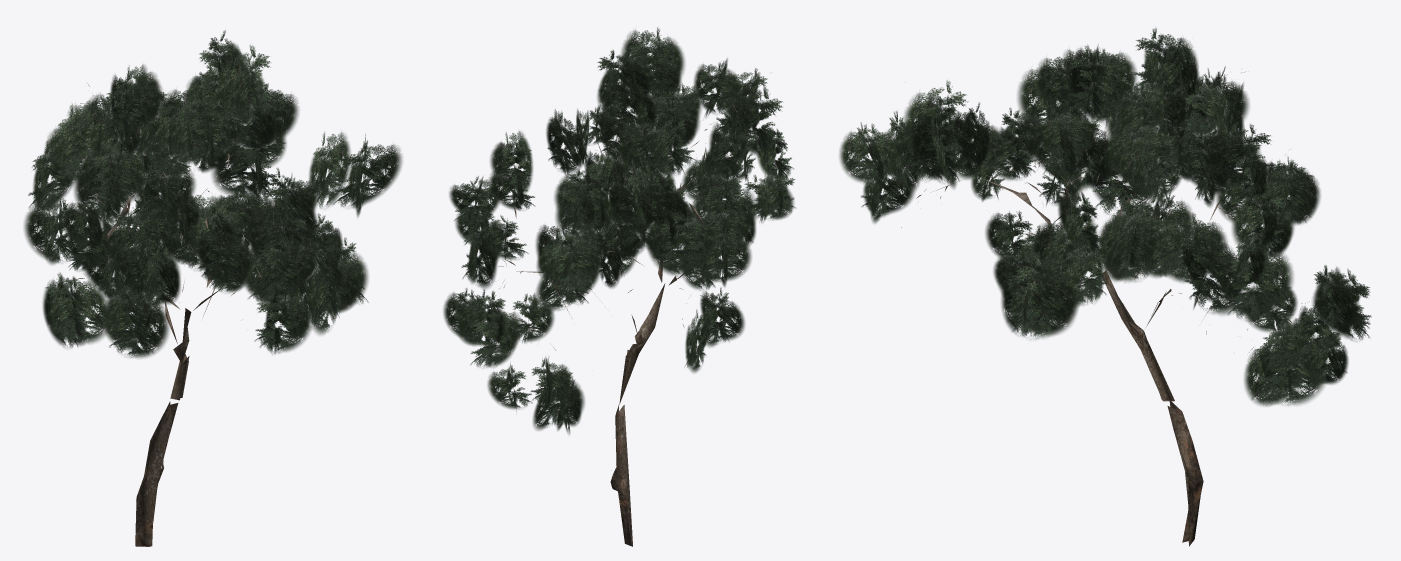
File: tree-v3-mobile.glb
3 renders of one model, left to right at view 1: azimuth 30°, elevation 25°; view 2: azimuth 150°, elevation 25°; view 3: azimuth 270°, elevation 25°, orthographic. The views are drawn at different scales.
Visible parts, largest first — view 1: tree-v3-mobile; view 2: tree-v3-mobile; view 3: tree-v3-mobile.
Boxes of the visible parts, x1,y1,x2,y2 form: tree-v3-mobile: [24, 30, 402, 546]; tree-v3-mobile: [443, 27, 795, 546]; tree-v3-mobile: [839, 27, 1371, 546].
Bounding box in the file's own units: 9.06 × 14.89 × 13.97.
3 materials, 3 textured.
